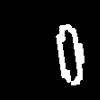chain: (56, 24, 83, 84)
